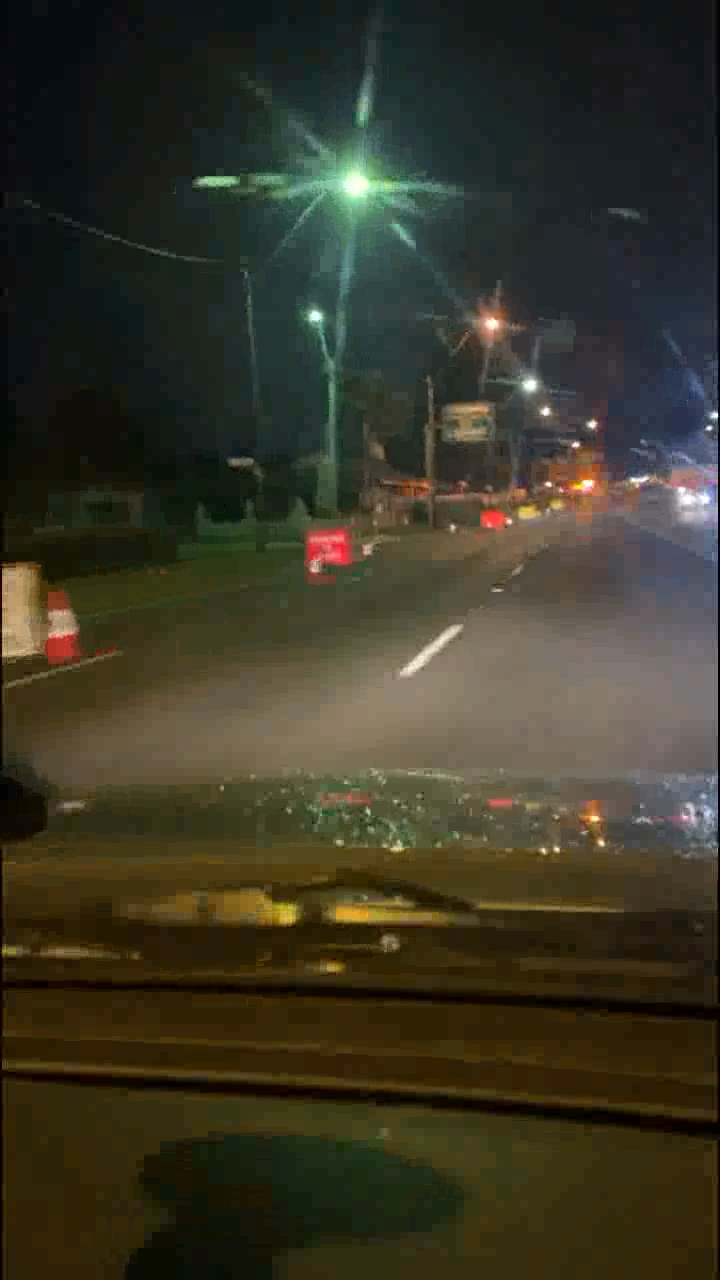road works sign board: (299, 532, 354, 567), (475, 509, 500, 530)
